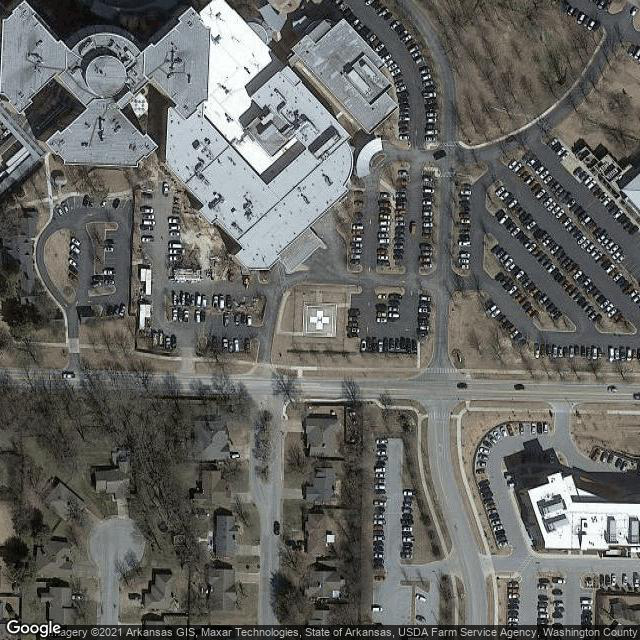Helipad: (303, 304, 337, 337)
